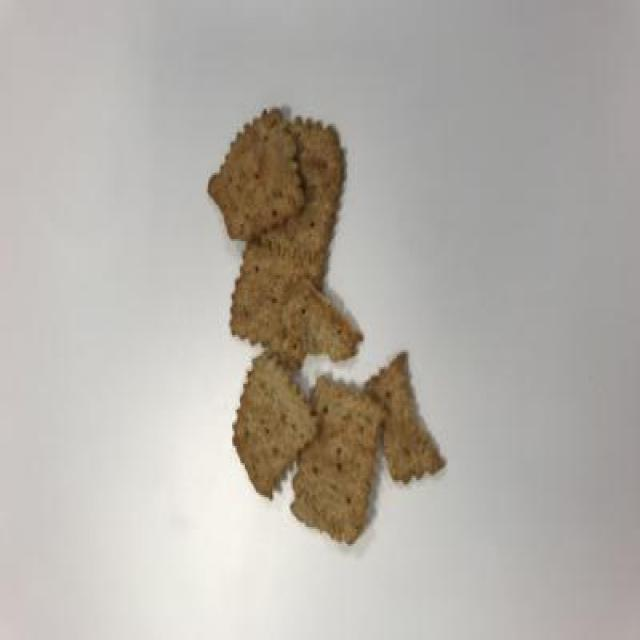compost: (198, 92, 457, 556)
